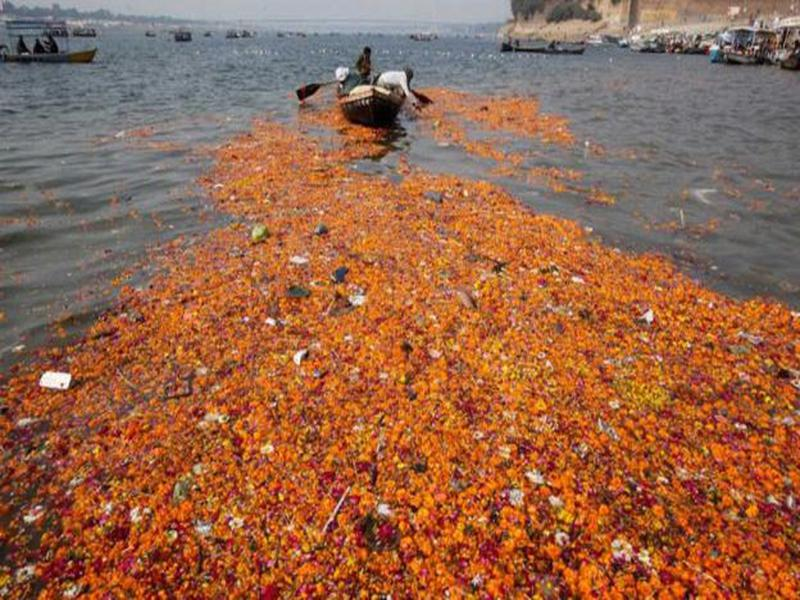flowers: (1, 175, 800, 600), (427, 87, 595, 169), (186, 115, 389, 174)
